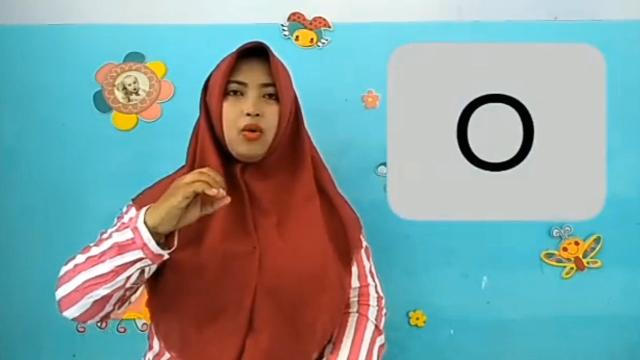O: (150, 162, 236, 236)
